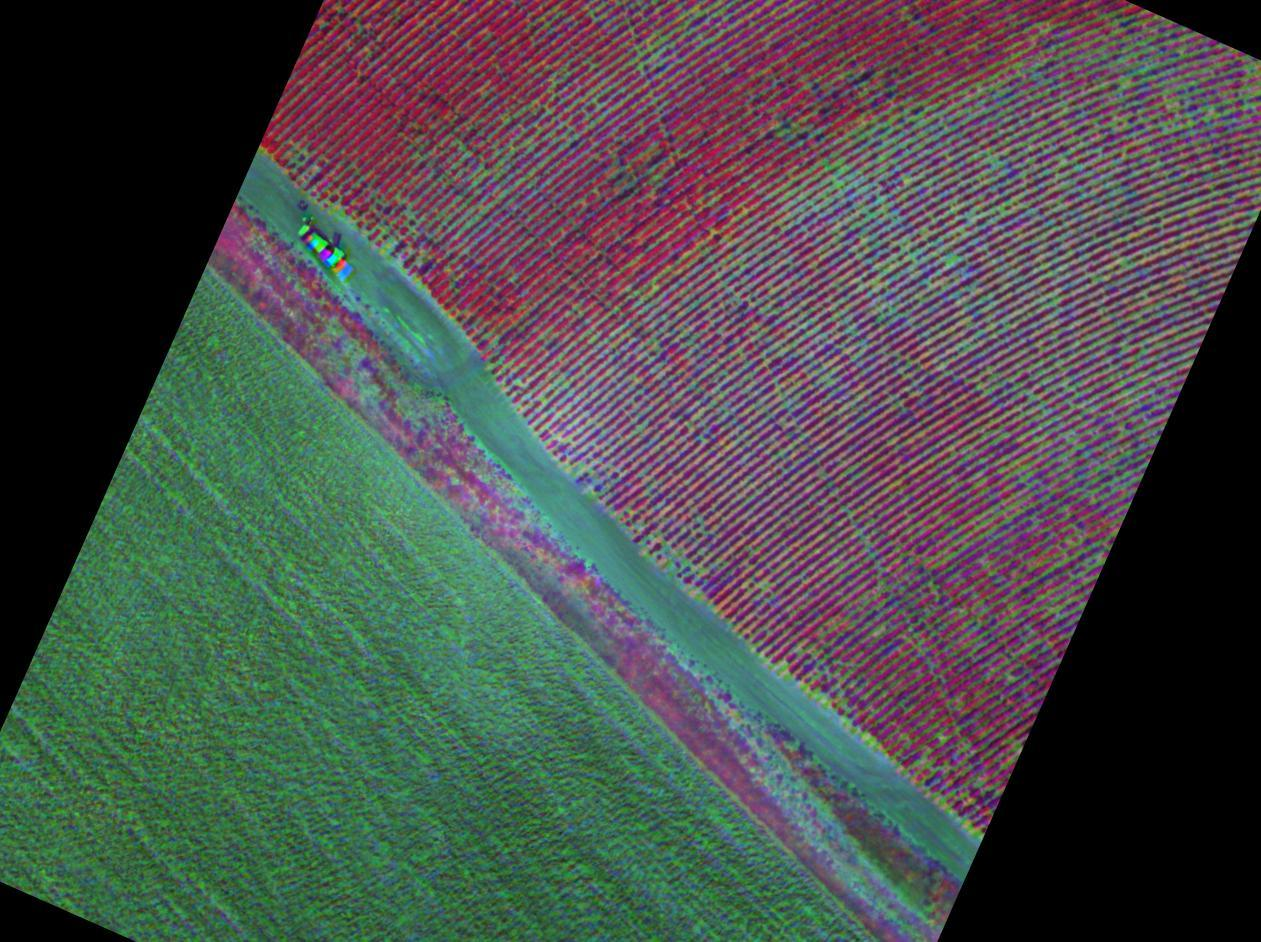dc: (333, 204, 338, 210), (386, 243, 392, 248), (1120, 257, 1125, 263), (579, 463, 585, 468), (991, 158, 996, 163), (782, 131, 786, 134), (837, 162, 840, 165), (650, 46, 653, 49)
